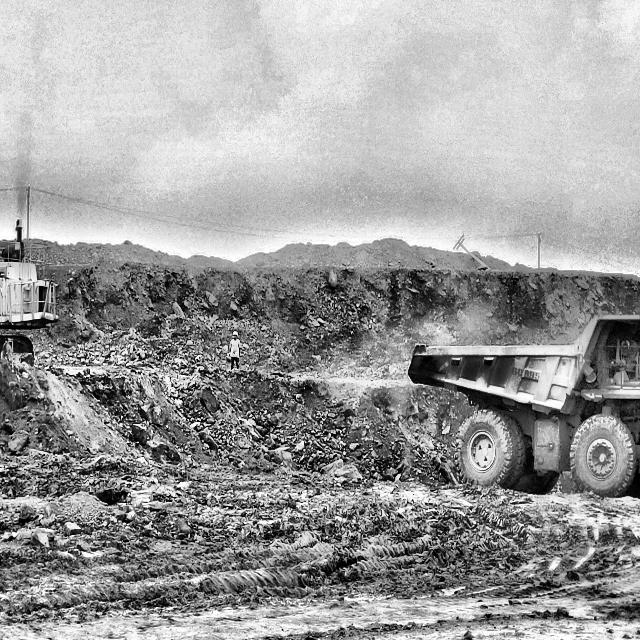dump_truck: (408, 315, 640, 501)
